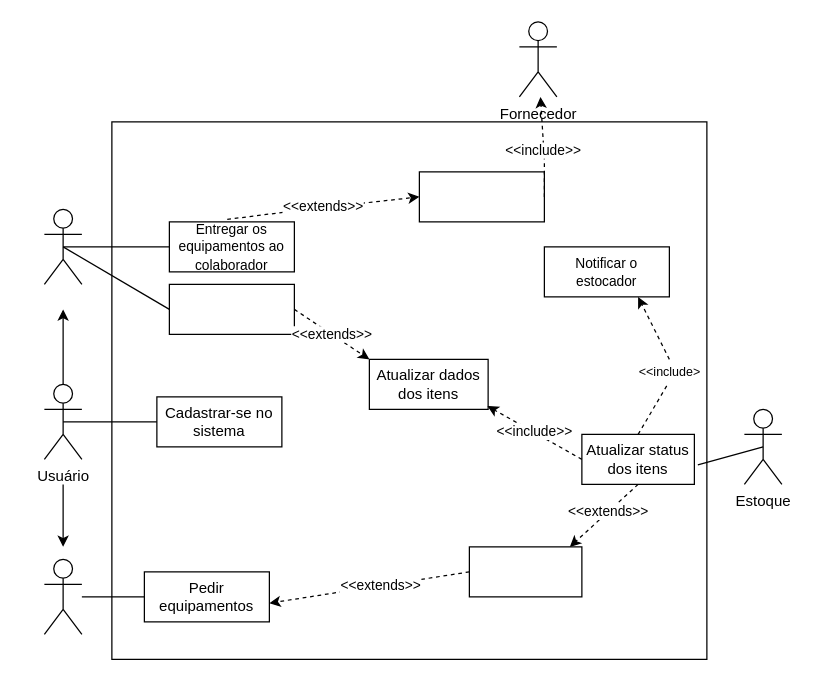
Image size: 813x683. Some labels were removed from this diagram. The shapes that lost their labels are listed below. From the top down, each one's centre as x and y in pixels, then its label:
(x=481, y=196): Comprar os produtos
(x=62, y=246): Estocador
(x=231, y=308): Verificar no estoque os equipamentos
(x=525, y=571): Entregar itens
(x=62, y=596): Colaborador
